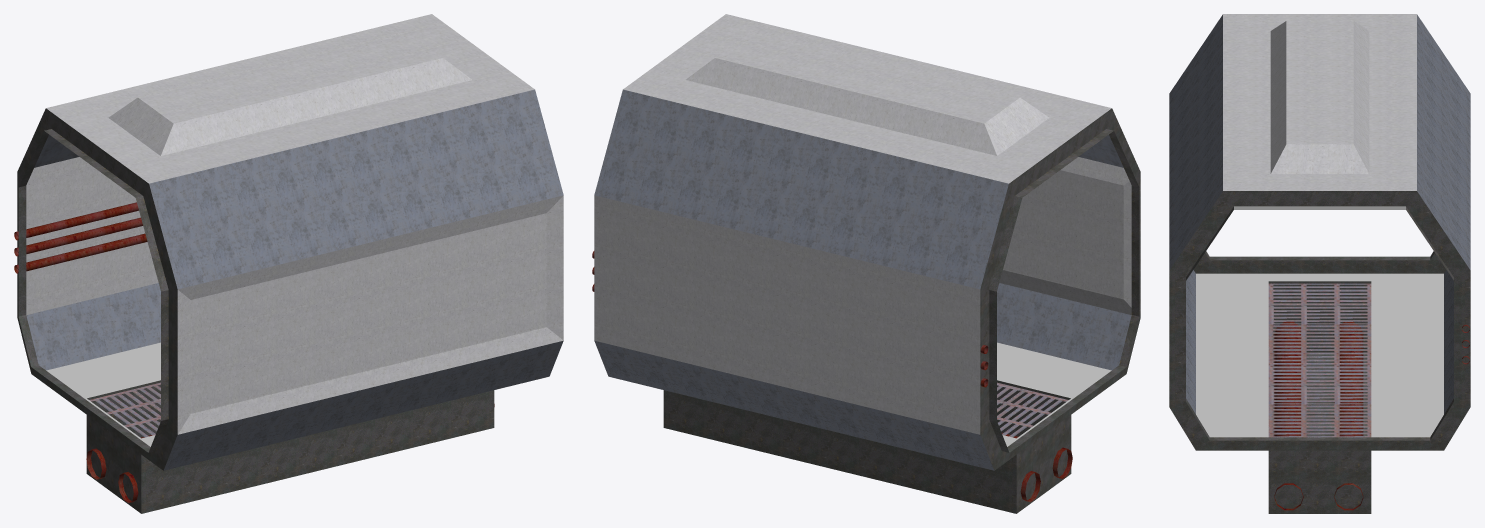
Rendered from starship_section.FBX.
3 views of the same model, side by side, from view 1: azimuth 30°, elevation 25°; view 2: azimuth 150°, elevation 25°; view 3: azimuth 270°, elevation 25° (orthographic). The views are drawn at different scales.
Visible parts, largest first — view 1: Plane001; view 2: Plane001; view 3: Plane001.
Part boxes in pixels (x1=…): Plane001: x1=14, y1=14, x2=563, y2=513; Plane001: x1=592, y1=14, x2=1140, y2=513; Plane001: x1=1169, y1=14, x2=1470, y2=513.
Size of the model in its own units: 6 by 5.33 by 4.15.
